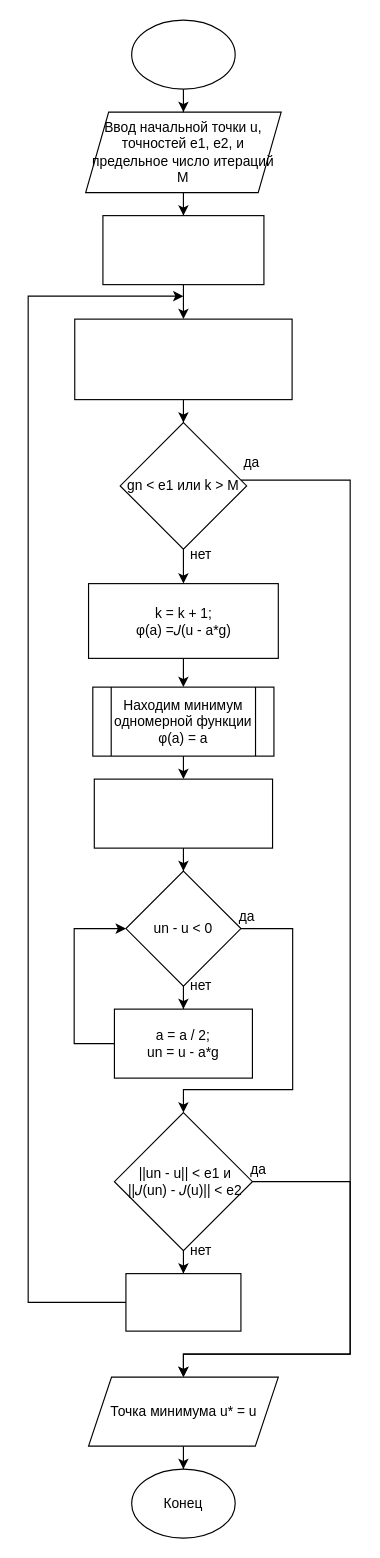
This 380x1558 diagram has some shape labels left out. The shapes that lost their labels are listed below. From the top down, each one's box as (x1, y1, x2, y2) in pixels, then its label:
(131, 19, 235, 89): Начало
(102, 214, 264, 285): Кол-во итераций k = 0;
(74, 318, 292, 400): Вычисляются: вектор градиент g = 𝛻𝐽(u[k]); норма градиента gn = ||𝐽(u[k])||
(93, 778, 273, 848): Вычисляется новая точка un = u - a*g
(125, 1272, 241, 1331): k = k + 1
